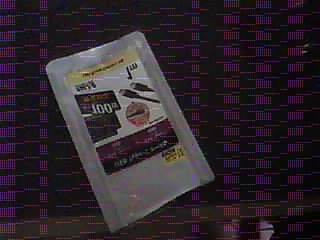plastic: (45, 31, 217, 232)
